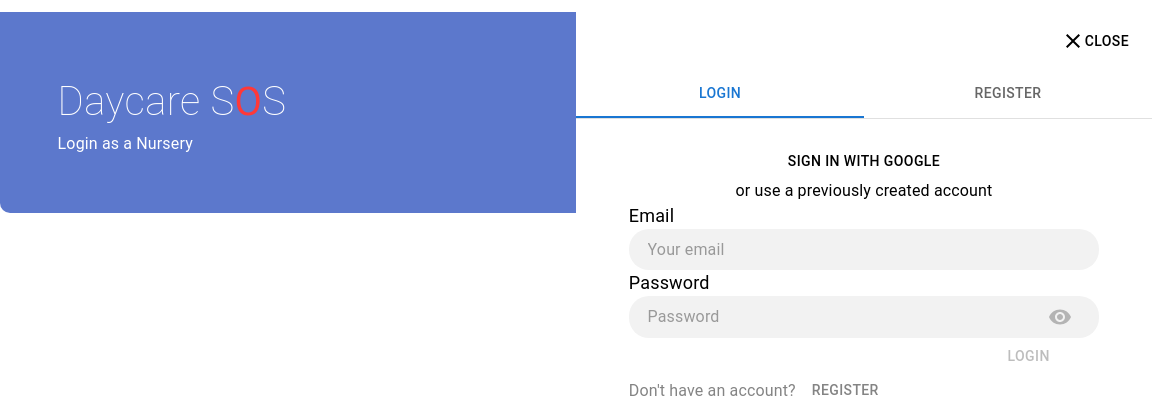
Test case: login button should be disabled unless both fields have text
Expected: the button "Login" is disabled, [958,338,1099,374]
Type "manel@email.com" into the field with placeholder "Your email". click: (864, 250)
box: [648,234,1080,266]
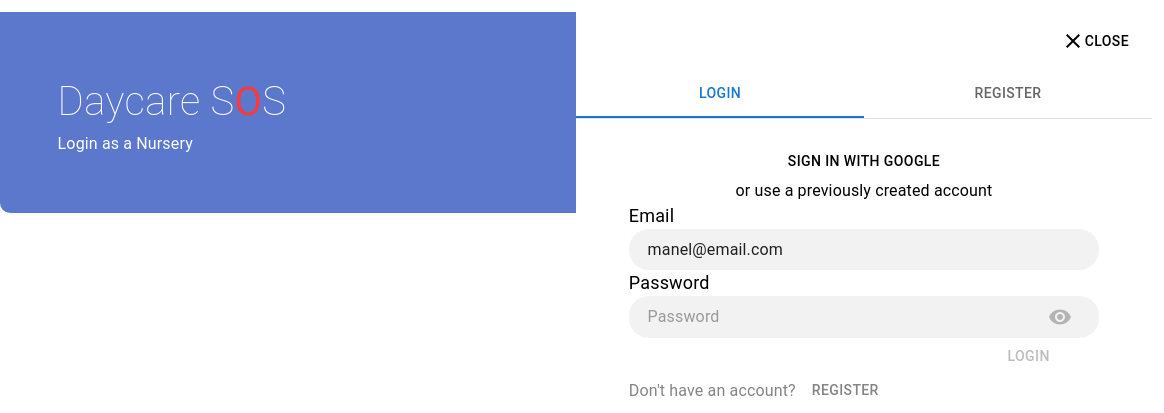
Type "password" into the password field with placeholder "Password". click: (840, 317)
box: [648,301,1032,333]
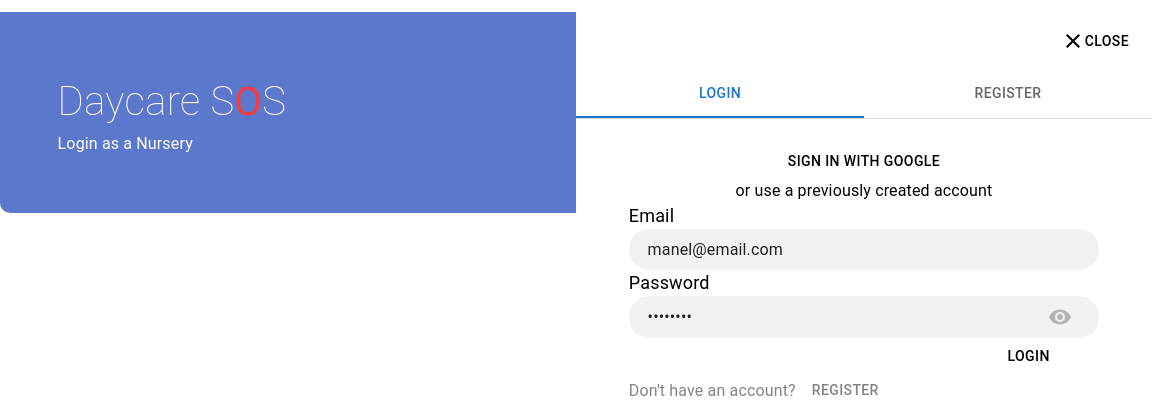
Expected: the button "Login" is enabled, [958,338,1099,374]
